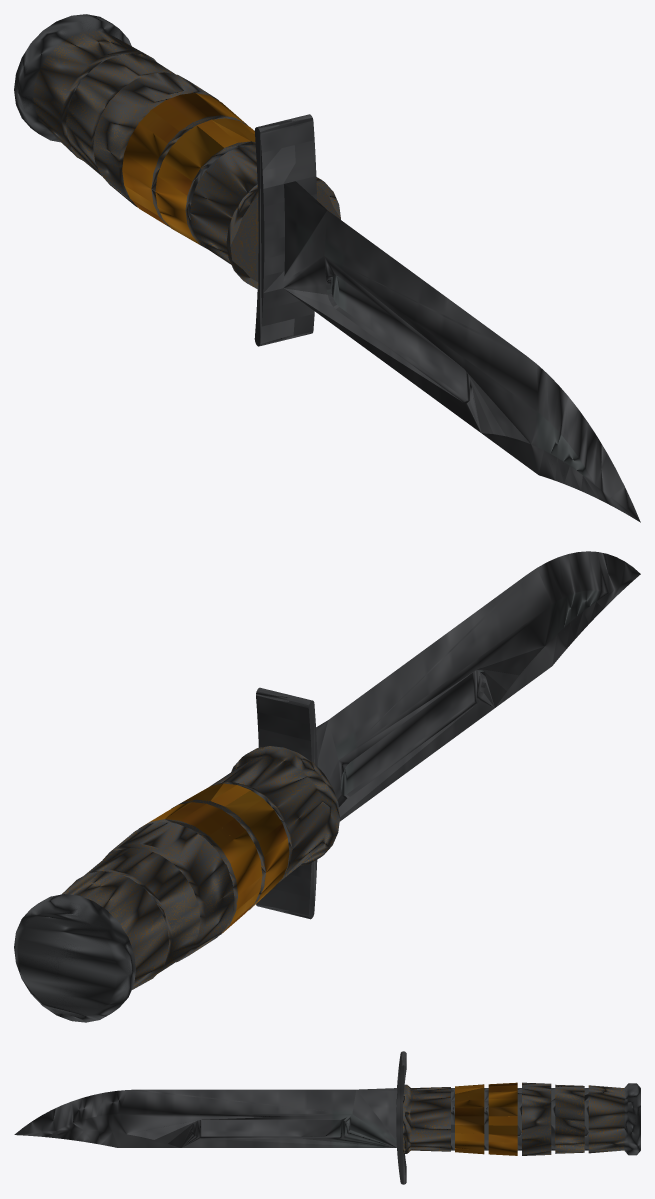
Rendered from model_align.obj.
The picture shows the model from 3 angles, top to bottom: view 1: azimuth 30°, elevation 25°; view 2: azimuth 150°, elevation 25°; view 3: azimuth 270°, elevation 25°; orthographic projection. The views are drawn at different scales.
Size of the model in its own units: 0.0256 by 0.0457 by 0.2176.
Materials: 3 (3 with a texture image).
